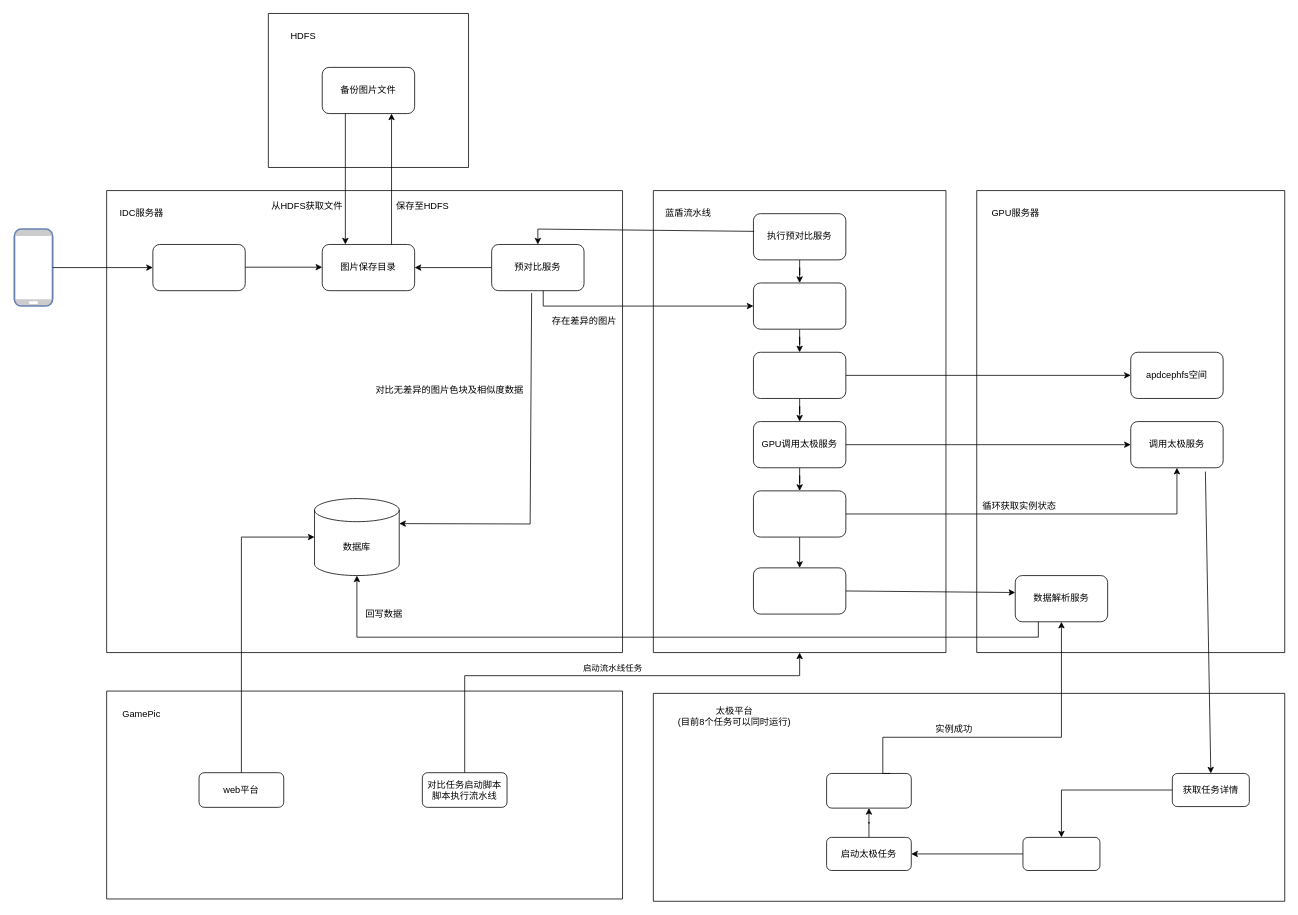
This 1298x915 diagram has some shape labels left out. The shapes that lost their labels are listed below. From the top down, each one's centre as x and y in pixels, then its label:
At (198,267): "接口服务".
At (799,305): "打包差异图片并上传 到流水线共享空间".
At (799,375): "GPU服务器下载".
At (799,513): "监听太极实例状态".
At (799,590): "解析并回写数据".
At (868,790): "太极实例".
At (1061,853): "编辑任务启动命令".
